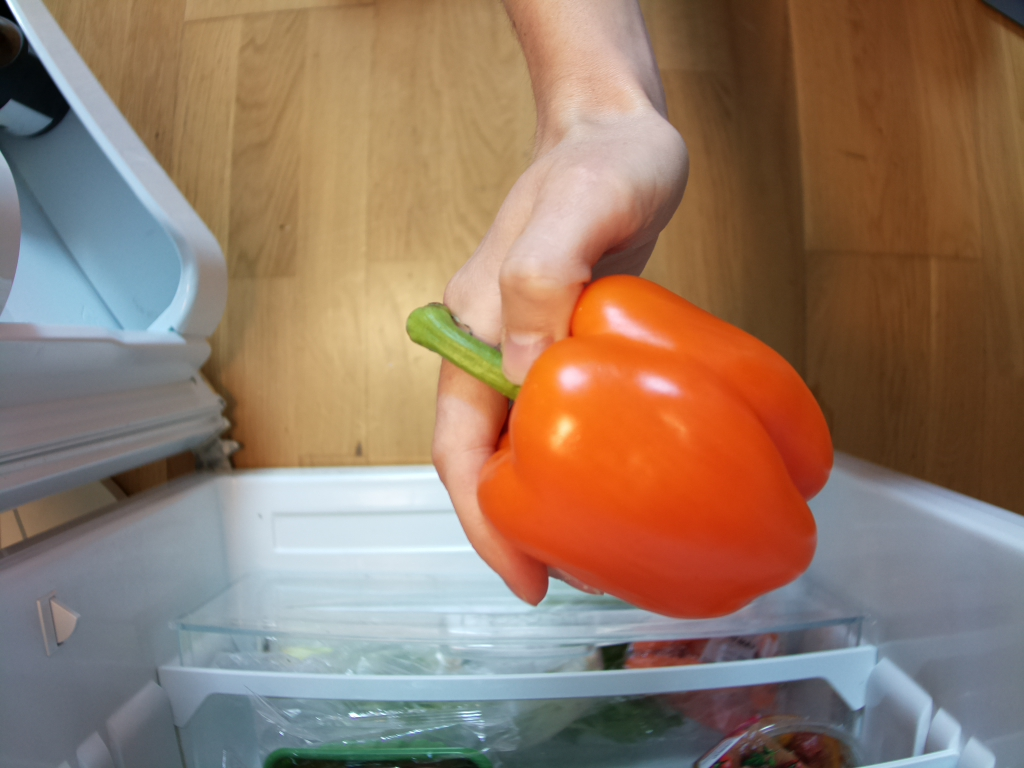pepper: (401, 271, 836, 624)
